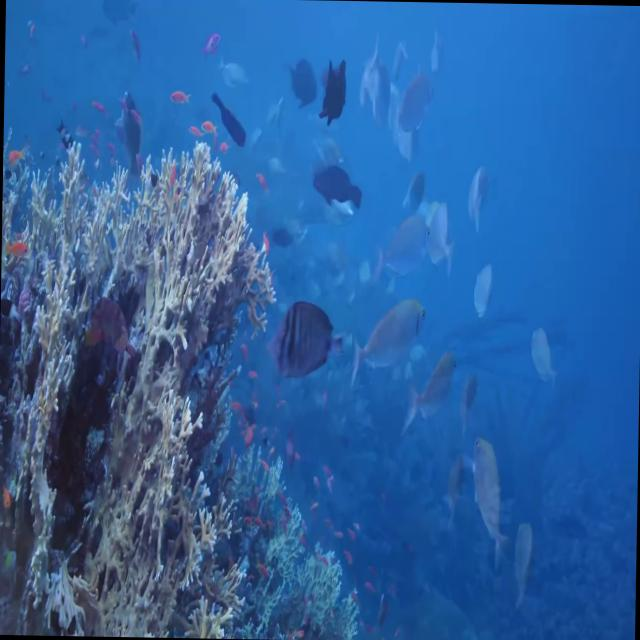fish: (352, 298, 432, 388), (271, 301, 345, 371), (314, 162, 363, 214)
